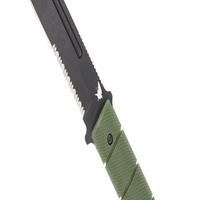knife: (28, 1, 151, 199)
